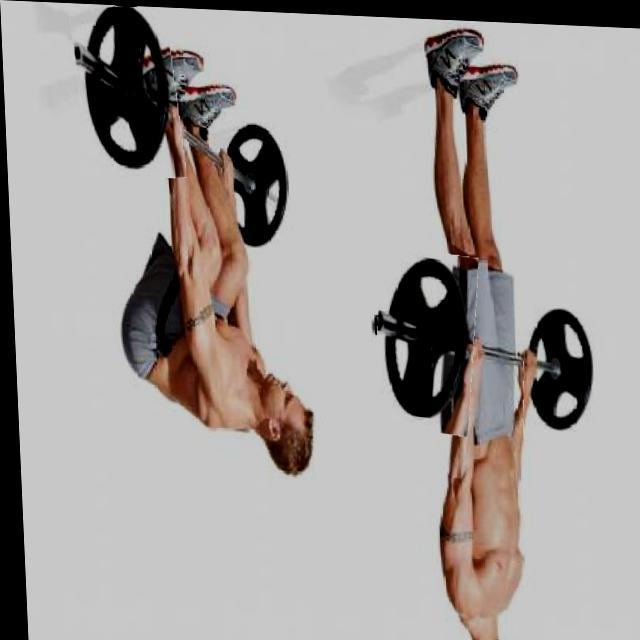barbell: (368, 244, 479, 432), (73, 4, 182, 182), (518, 298, 600, 440)
